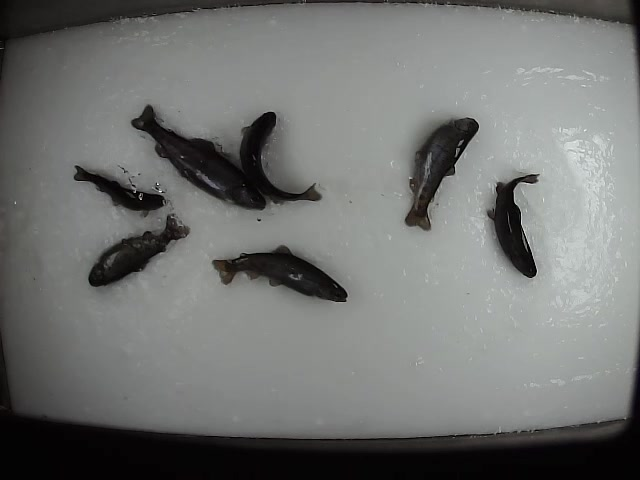fish: (127, 98, 266, 209), (400, 113, 482, 235), (210, 242, 352, 306), (236, 108, 325, 206), (83, 211, 192, 286), (482, 169, 545, 279), (71, 160, 168, 219)
